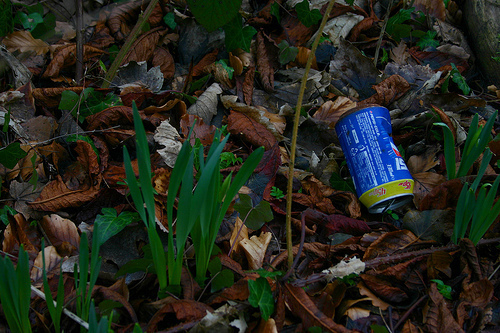litter: (336, 103, 416, 211)
